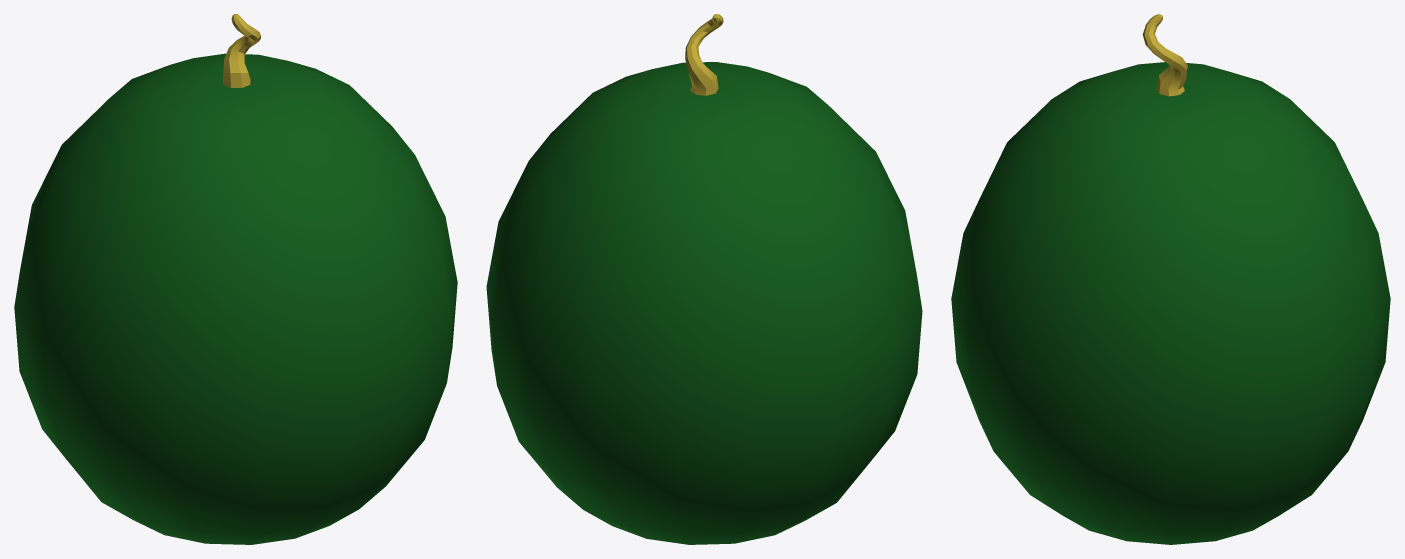
The model's file is Watermelon.FBX.
3 views of the same model, side by side, from view 1: azimuth 30°, elevation 25°; view 2: azimuth 150°, elevation 25°; view 3: azimuth 270°, elevation 25° (orthographic).
Parts seen in each view (by area): view 1: Watermelon; view 2: Watermelon; view 3: Watermelon.
Part boxes in pixels (x1=…): Watermelon: x1=14, y1=14, x2=457, y2=544; Watermelon: x1=486, y1=14, x2=922, y2=544; Watermelon: x1=951, y1=14, x2=1390, y2=544.
Bounding box in the file's own units: 925 × 925 × 1169.
